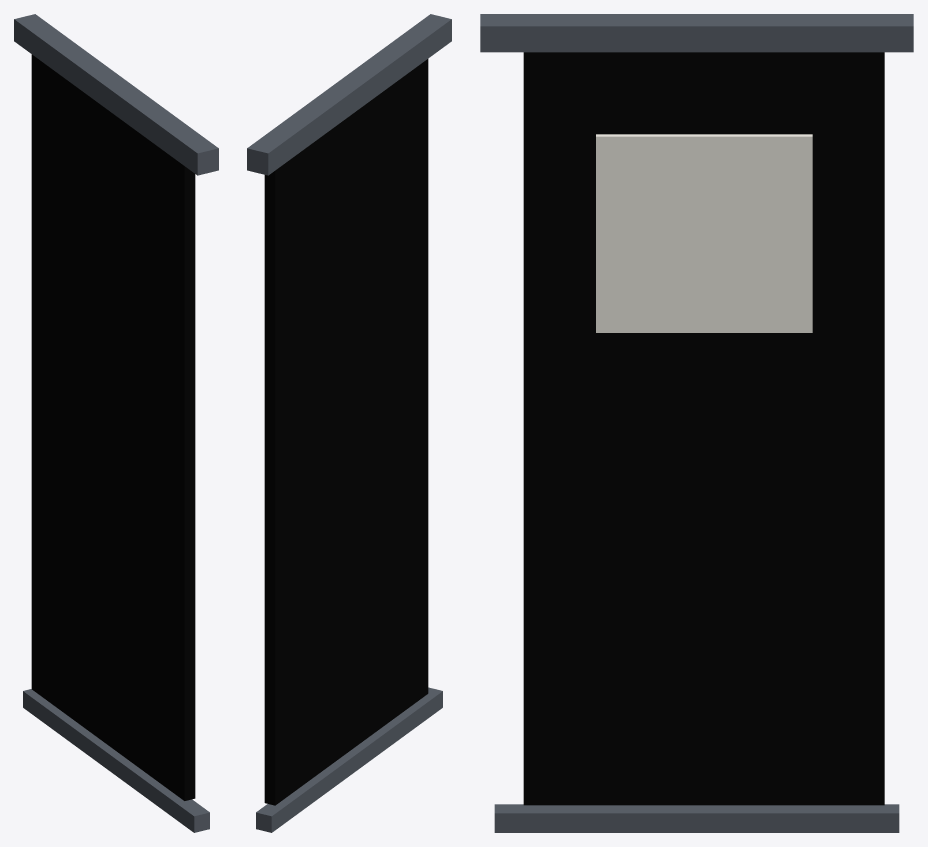
File: Banner_Indigo.fbx
The picture shows the model from 3 angles, left to right: view 1: azimuth 30°, elevation 25°; view 2: azimuth 150°, elevation 25°; view 3: azimuth 270°, elevation 25°; orthographic projection. The views are drawn at different scales.
Parts seen in each view (by area): view 1: Flag.001, Arm.002; view 2: Flag.001, Arm.002; view 3: Flag.001, Mark.001, Arm.002.
Part boxes in pixels (x1,y1,x2,y2): Flag.001: [31, 54, 195, 800]; Arm.002: [14, 14, 218, 832]; Flag.001: [264, 59, 428, 805]; Arm.002: [247, 14, 451, 832]; Flag.001: [523, 52, 884, 805]; Mark.001: [596, 134, 812, 332]; Arm.002: [480, 14, 913, 832].
Bounding box in the file's own units: 0.04 × 1.24 × 0.6.
